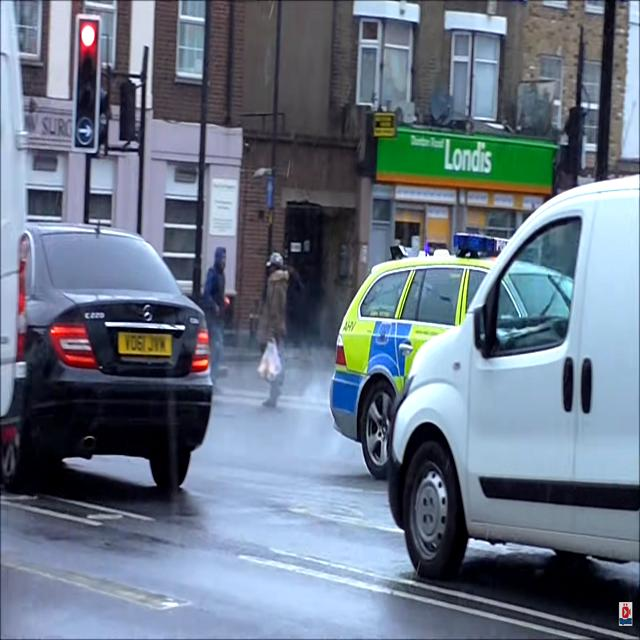emergency-vehicles: (330, 230, 586, 496)
